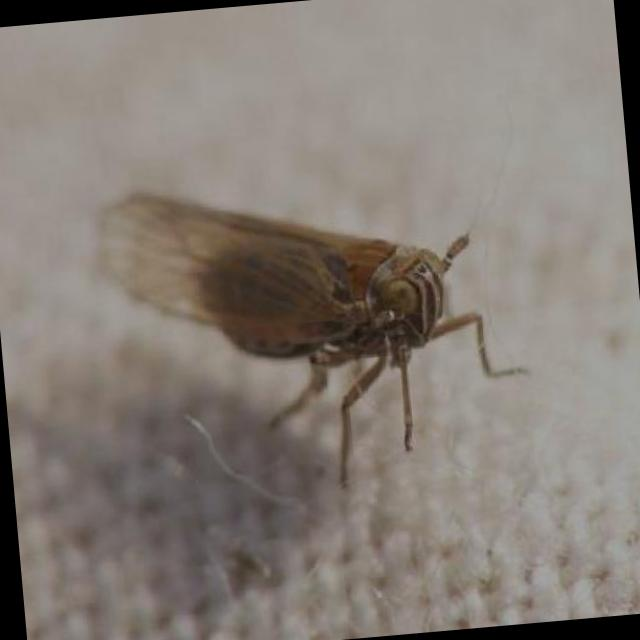brown-planthopper: (86, 155, 488, 399)
